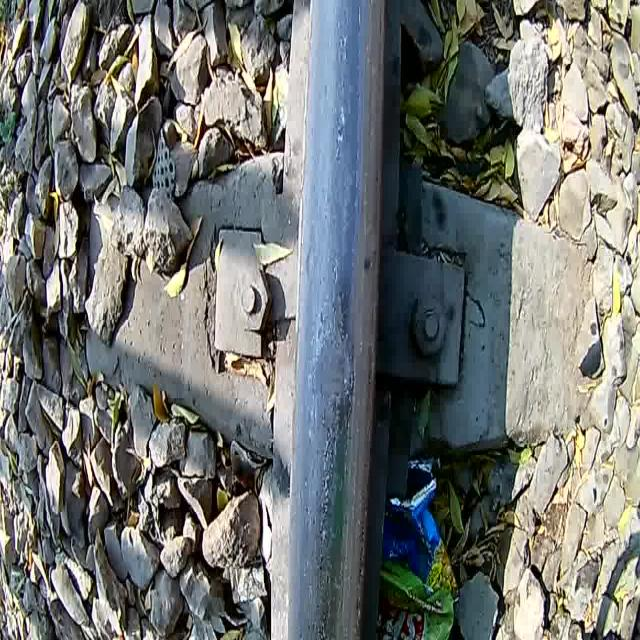Squats: (278, 278, 382, 485)
